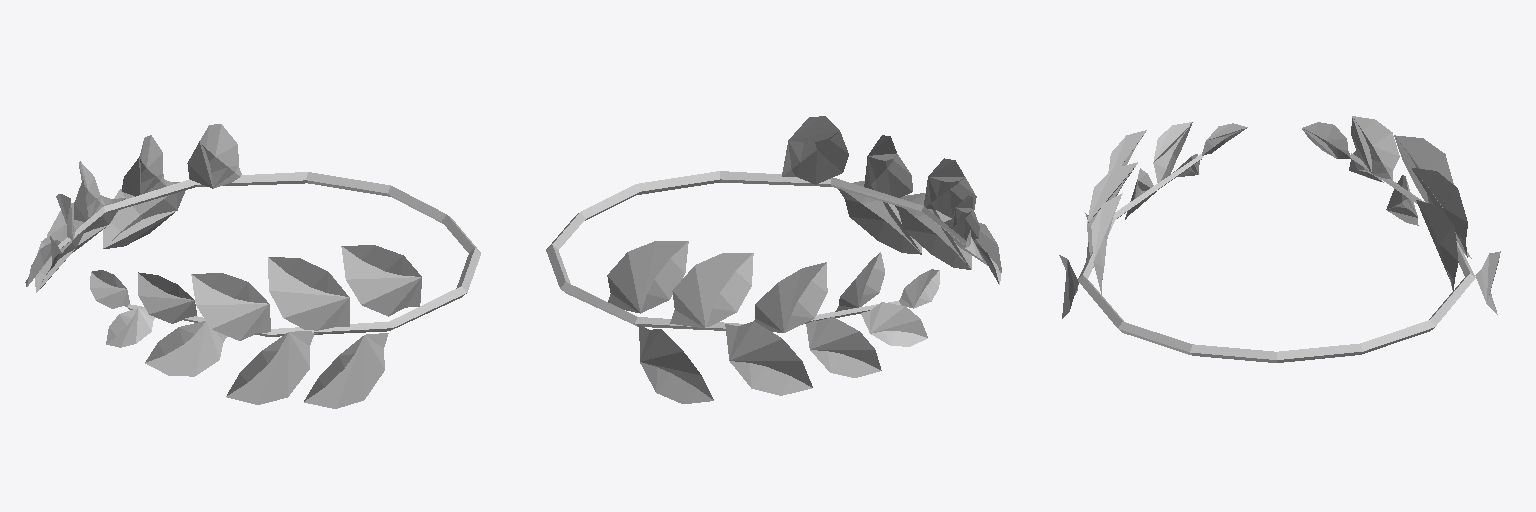
File: RoseCrown.obj
3 renders of one model, left to right at view 1: azimuth 30°, elevation 25°; view 2: azimuth 150°, elevation 25°; view 3: azimuth 270°, elevation 25°, orthographic.
Visible parts, largest first — view 1: Wreath_Circle.005; view 2: Wreath_Circle.005; view 3: Wreath_Circle.005.
Part boxes in pixels (x1,y1,x2,y2): Wreath_Circle.005: (25, 124, 480, 408); Wreath_Circle.005: (546, 116, 1001, 403); Wreath_Circle.005: (1059, 116, 1500, 362).
Size of the model in its own units: 6.36 by 2.14 by 6.24.